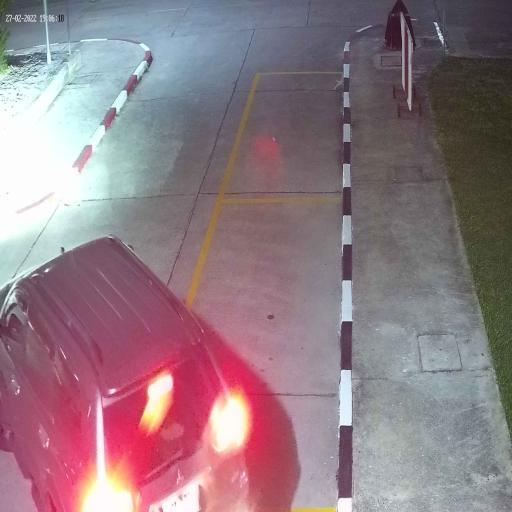car: (0, 235, 250, 512)
